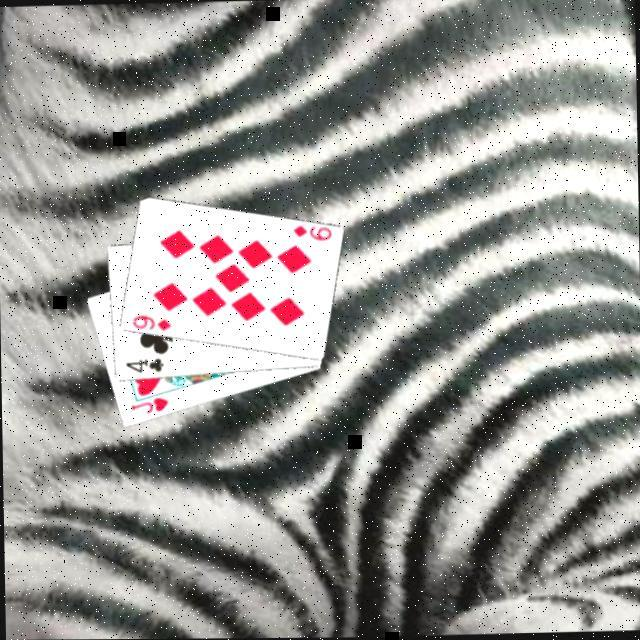4C: (123, 353, 167, 374)
9D: (131, 309, 175, 332), (291, 220, 336, 242)
JH: (130, 392, 173, 415)
